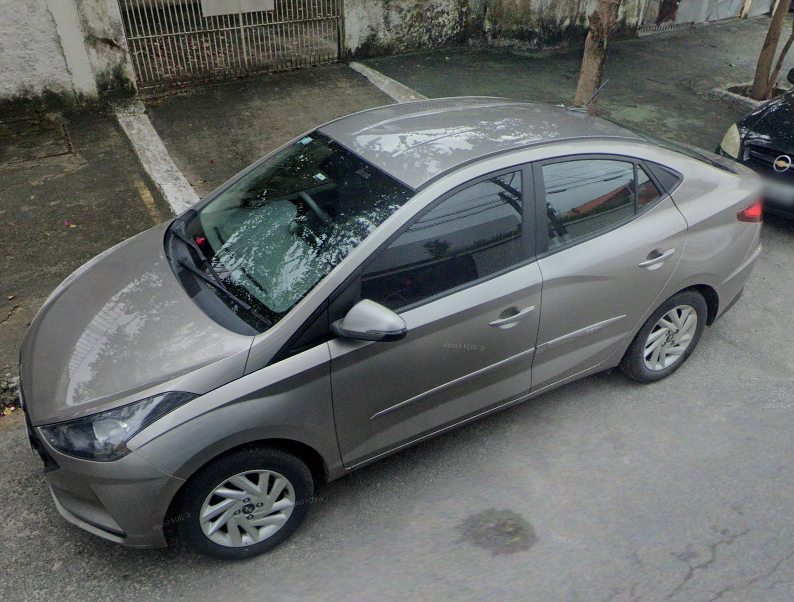car: (20, 98, 772, 554)
